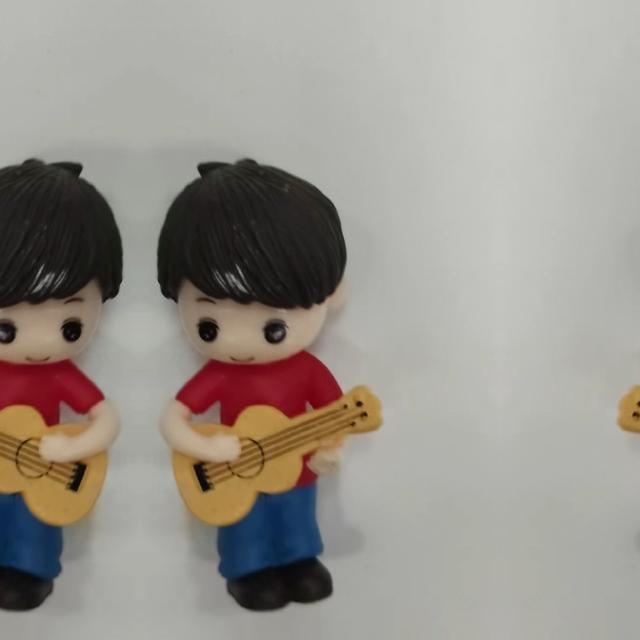man cloth: (175, 354, 347, 488), (0, 353, 105, 488)
man head: (150, 147, 354, 371), (0, 147, 129, 371)
trousers: (210, 488, 342, 616), (0, 488, 69, 616)
